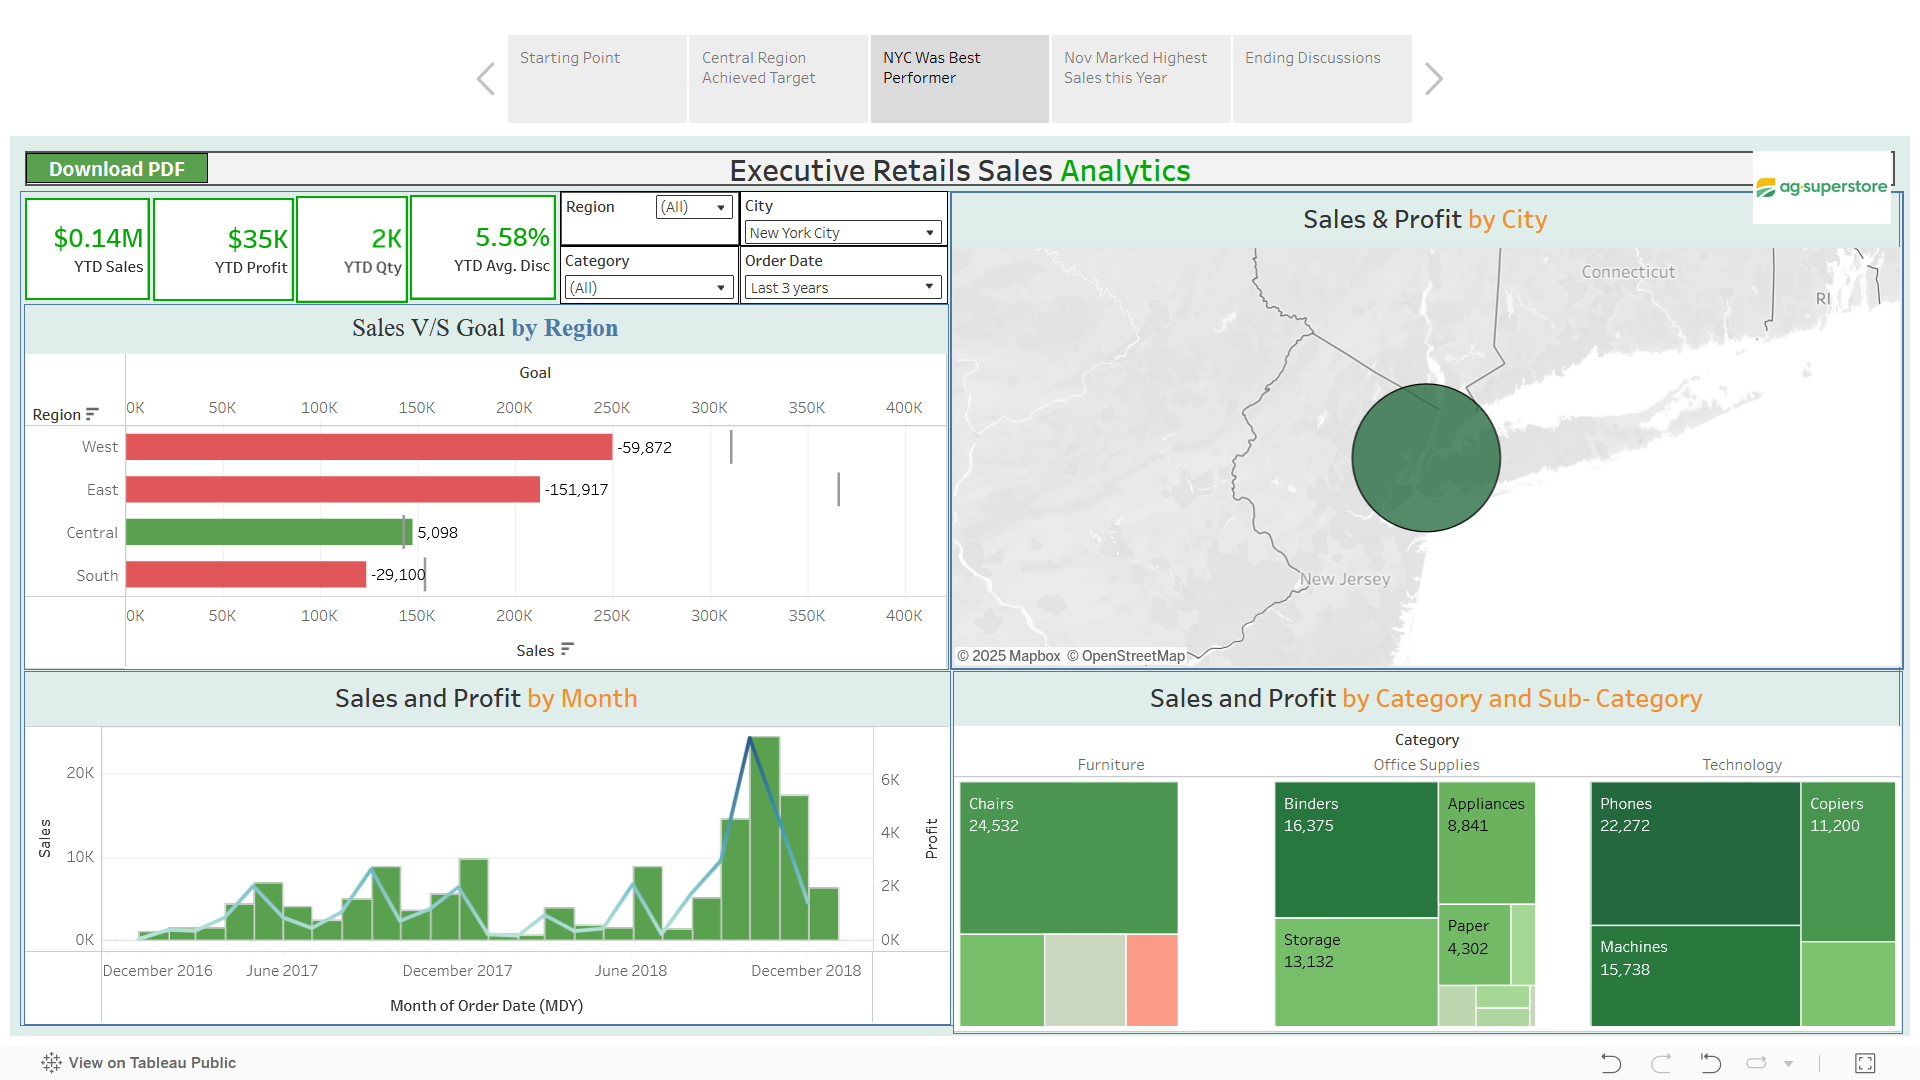

This screenshot's page, from the dashboard's own definition file:
{"tool":"tableau","page":{"name":"Dashboard 1","canvas":[1000,1000],"units":"permille","ordinal":0},"visuals":[{"type":"title","box":[4.8,10,990.4,49.9]},{"type":"dashboard-object","box":[8.4,17.5,95.6,33.7]},{"type":"filter","title":"RegionSalesvsGoal","param":"[federated.1u02box1ioevtw1h0fczs0g7tg69].[none:Region:nk]","box":[289.3,61.2,95,61.2]},{"type":"filter","title":"Sales&PrftByCity","param":"[federated.1u02box1ioevtw1h0fczs0g7tg69].[none:City:nk]","box":[384.3,61.2,109.4,61.2]},{"type":"worksheet","title":"Sales&PrftByCity","mark":"Automatic","box":[494.9,61.2,502.1,531.8]},{"type":"worksheet","title":"Discount","mark":"Automatic","box":[209.8,63.7,78.3,118.6]},{"type":"worksheet","title":"Qty","mark":"Automatic","box":[150,64.9,59.2,119.9]},{"type":"worksheet","title":"SalesCard","mark":"Automatic","box":[7.2,66.2,66.4,117.4]},{"type":"worksheet","title":"Profit","mark":"Automatic","box":[74.1,66.2,75.3,117.4]},{"type":"filter","title":"TreeMap","param":"[federated.1u02box1ioevtw1h0fczs0g7tg69].[none:Category:nk]","box":[289.3,122.4,94.4,63.7]},{"type":"filter","title":"Time Series","param":"[federated.1u02box1ioevtw1h0fczs0g7tg69].[tmn:Order Date (MDY):qk]","box":[384.3,122.4,109.4,63.7]},{"type":"worksheet","title":"RegionSalesvsGoal","mark":"Automatic","rows":["Region"],"cols":["Sales","Goal"],"box":[7.2,186,487,407]},{"type":"worksheet","title":"Time Series","mark":"Automatic","rows":["Sales","Profit"],"cols":["Order Date (MDY)"],"box":[7.2,594.3,488.2,393.3]},{"type":"worksheet","title":"TreeMap","mark":"Automatic","cols":["Category"],"box":[496.1,594.3,499.7,403.2]}]}

Visuals, with their boxes on the dashboard's canvas, which has no fixed pixel size, in thousandths of its width and height (x1, y1, x2, y2). These are canvas units, not pixel positions in the 1920x1080 screenshot, which may show the page scaled, cropped or inside an application window:
title: box(5, 10, 995, 60)
dashboard-object: box(8, 18, 104, 51)
"RegionSalesvsGoal" filter: box(289, 61, 384, 122)
"Sales&PrftByCity" filter: box(384, 61, 494, 122)
"Sales&PrftByCity" worksheet: box(495, 61, 997, 593)
"Discount" worksheet: box(210, 64, 288, 182)
"Qty" worksheet: box(150, 65, 209, 185)
"SalesCard" worksheet: box(7, 66, 74, 184)
"Profit" worksheet: box(74, 66, 149, 184)
"TreeMap" filter: box(289, 122, 384, 186)
"Time Series" filter: box(384, 122, 494, 186)
"RegionSalesvsGoal" worksheet: box(7, 186, 494, 593)
"Time Series" worksheet: box(7, 594, 495, 988)
"TreeMap" worksheet: box(496, 594, 996, 998)
